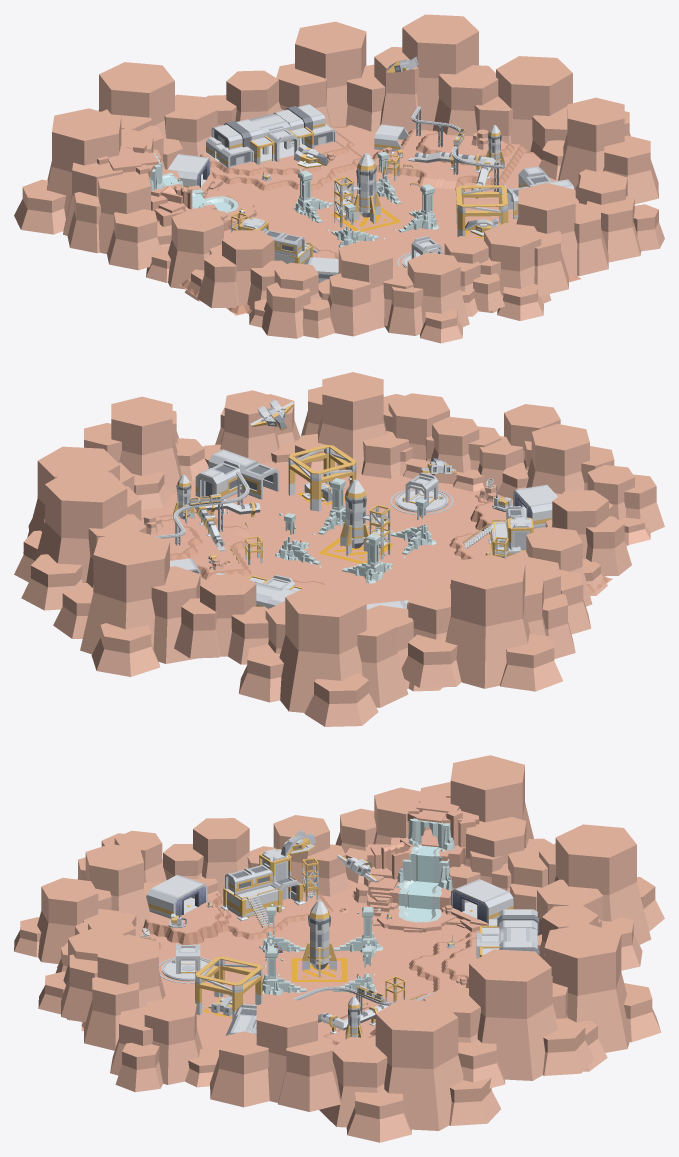
File: mapRework2.glb
3 views of the same model, one above another, from view 1: azimuth 30°, elevation 25°; view 2: azimuth 150°, elevation 25°; view 3: azimuth 270°, elevation 25° (orthographic). The views are drawn at different scales.
Parts seen in each view (by area): view 1: rock_largeA.023, rock_largeA.022, rock_largeA.013, rock_largeA.020, rock_largeA.012, rock_largeA.003, rock_largeA.021, rock_largeA.019, rock_largeA.005, rock_largeA.002, rock_largeA.006, rock_largeB.006 (+19 smaller); view 2: rock_largeA.019, rock_largeA.013, rock_largeA.022, rock_largeA.023, rock_largeA.020, rock_largeA.003, rock_largeA.009, rock_largeA.002, rock_largeB.007, rock_largeA.004, rock_largeA.006, rock_largeB.004 (+16 smaller); view 3: rock_largeA.021, rock_largeA.023, rock_largeA.020, rock_largeA.019, rock_largeA.022, rock_largeA.003, rock_largeB.007, rock_largeA.013, rock_largeA.005, rock_largeA.006, rock_largeA.002, rock_largeA.012 (+19 smaller).
Boxes of the visible parts, bbox=[...] form: rock_largeA.023: bbox=[374, 14, 498, 136]; rock_largeA.022: bbox=[276, 21, 385, 131]; rock_largeA.013: bbox=[14, 108, 153, 235]; rock_largeA.020: bbox=[538, 97, 658, 204]; rock_largeA.012: bbox=[67, 171, 171, 270]; rock_largeA.003: bbox=[516, 183, 608, 296]; rock_largeA.021: bbox=[474, 56, 572, 159]; rock_largeA.019: bbox=[98, 62, 217, 156]; rock_largeA.005: bbox=[384, 252, 478, 343]; rock_largeA.002: bbox=[318, 240, 413, 336]; rock_largeA.006: bbox=[197, 230, 286, 309]; rock_largeB.006: bbox=[249, 262, 334, 338]; rock_largeA.019: bbox=[238, 584, 408, 726]; rock_largeA.013: bbox=[401, 554, 562, 691]; rock_largeA.022: bbox=[53, 531, 200, 676]; rock_largeA.023: bbox=[21, 470, 146, 610]; rock_largeA.020: bbox=[84, 396, 208, 509]; rock_largeA.003: bbox=[295, 372, 413, 475]; rock_largeA.009: bbox=[174, 574, 268, 664]; rock_largeA.002: bbox=[497, 424, 614, 499]; rock_largeB.007: bbox=[203, 390, 300, 465]; rock_largeA.004: bbox=[361, 393, 449, 478]; rock_largeA.006: bbox=[545, 490, 631, 576]; rock_largeB.004: bbox=[403, 417, 501, 491]; rock_largeA.021: bbox=[319, 999, 500, 1142]; rock_largeA.023: bbox=[423, 949, 594, 1088]; rock_largeA.020: bbox=[210, 998, 340, 1111]; rock_largeA.019: bbox=[537, 824, 664, 970]; rock_largeA.022: bbox=[543, 923, 661, 1071]; rock_largeA.003: bbox=[61, 934, 171, 1050]; rock_largeB.007: bbox=[110, 997, 218, 1092]; rock_largeA.013: bbox=[419, 755, 552, 868]; rock_largeA.005: bbox=[14, 878, 124, 967]; rock_largeA.006: bbox=[163, 818, 250, 896]; rock_largeA.002: bbox=[77, 844, 157, 936]; rock_largeA.012: bbox=[335, 787, 429, 883].
Bounding box in the file's own units: 84.21 × 23.51 × 80.75.
Materials: 282 (6 with a texture image).
